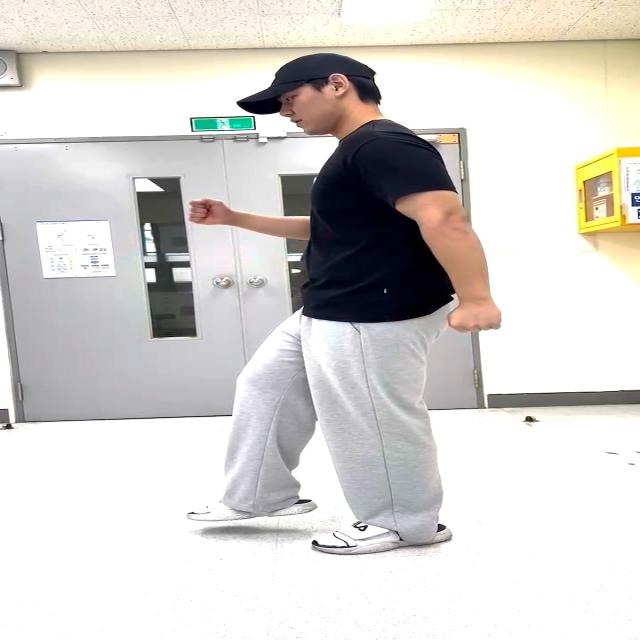leg: (184, 319, 306, 520)
